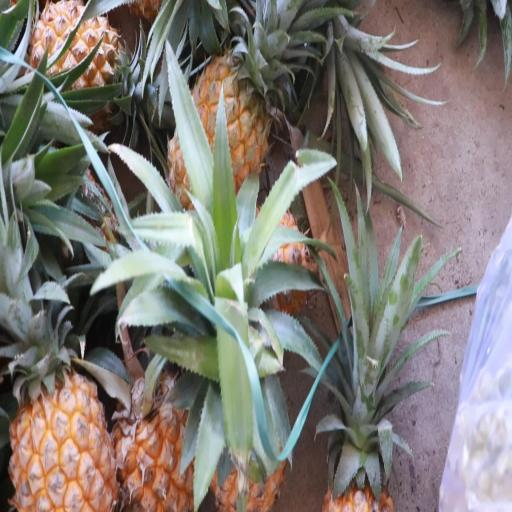Pineapple - v8 v1: (162, 30, 276, 223), (24, 0, 149, 155), (5, 360, 121, 512), (110, 366, 209, 512)
